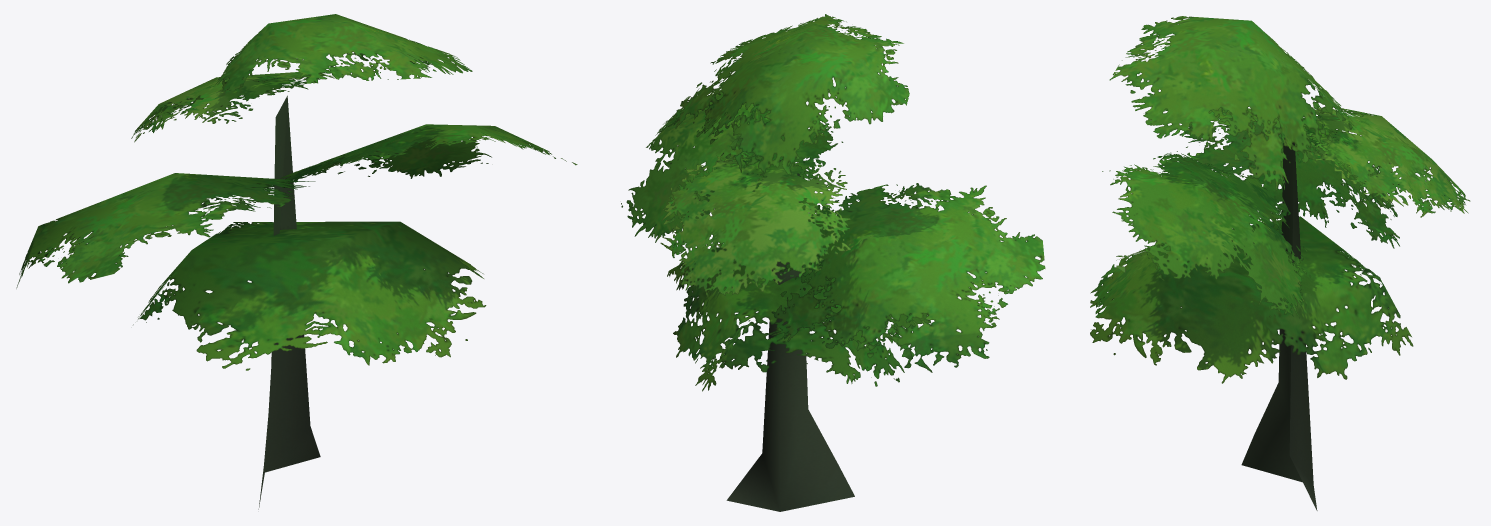
File: Sce_tree_04.fbx
The picture shows the model from 3 angles, left to right: view 1: azimuth 30°, elevation 25°; view 2: azimuth 150°, elevation 25°; view 3: azimuth 270°, elevation 25°; orthographic projection. The views are drawn at different scales.
Visible parts, largest first — view 1: polySurface514; view 2: polySurface514; view 3: polySurface514.
Boxes of the visible parts, x1,y1,x2,y2 form: polySurface514: [16, 14, 577, 509]; polySurface514: [621, 14, 1045, 511]; polySurface514: [1090, 16, 1470, 510].
Size of the model in its own units: 26.96 by 24.34 by 19.33.
